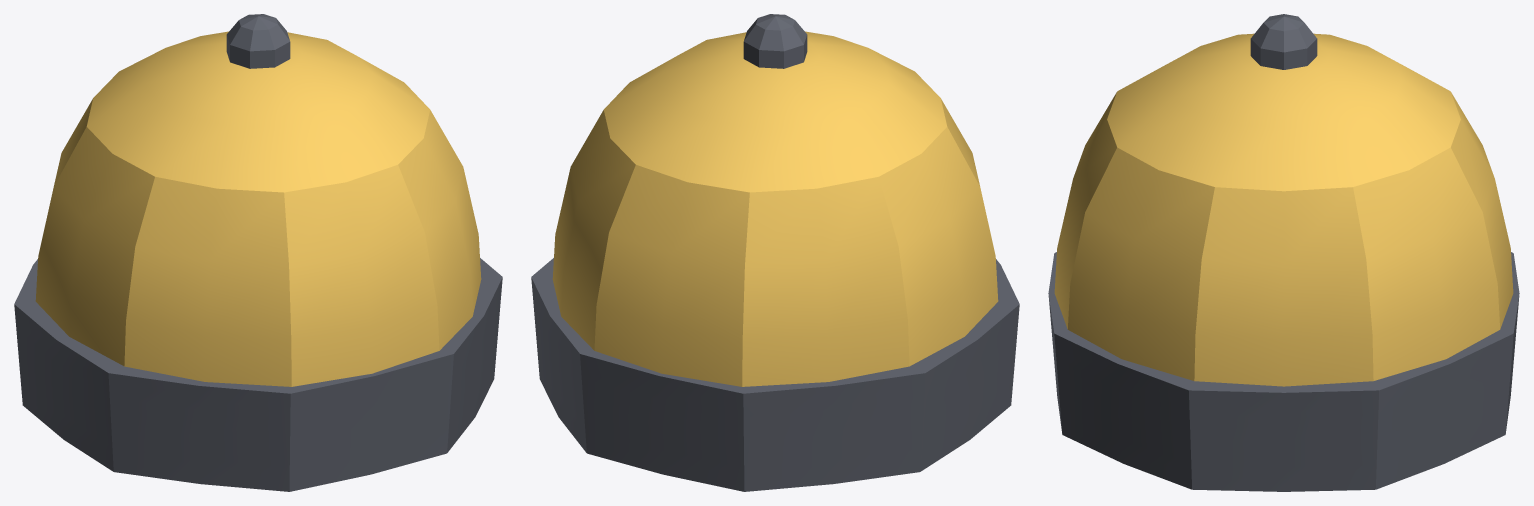
The model's file is beanie.glb.
The picture shows the model from 3 angles, left to right: view 1: azimuth 30°, elevation 25°; view 2: azimuth 150°, elevation 25°; view 3: azimuth 270°, elevation 25°; orthographic projection.
Parts seen in each view (by area): view 1: beanie; view 2: beanie; view 3: beanie.
Part boxes in pixels (x1=…): beanie: x1=14, y1=14, x2=502, y2=491; beanie: x1=531, y1=14, x2=1019, y2=491; beanie: x1=1048, y1=14, x2=1519, y2=491.
Size of the model in its own units: 0.216 by 0.192 by 0.216.
